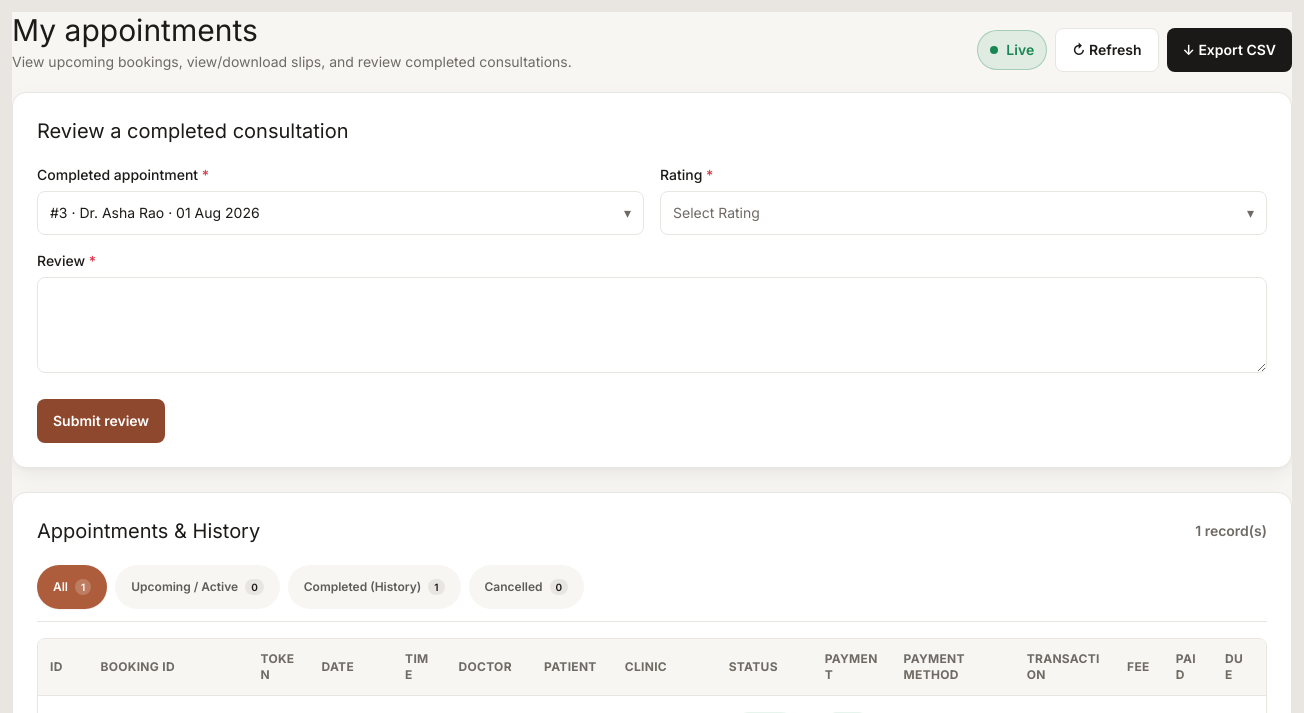
it: PatientAppointments › refresh re-fetches appointments and payments from the server and re-renders with the new rows
Click the button "↻ Refresh" at point(1107, 50), box left=1055, top=28, right=1159, bottom=72
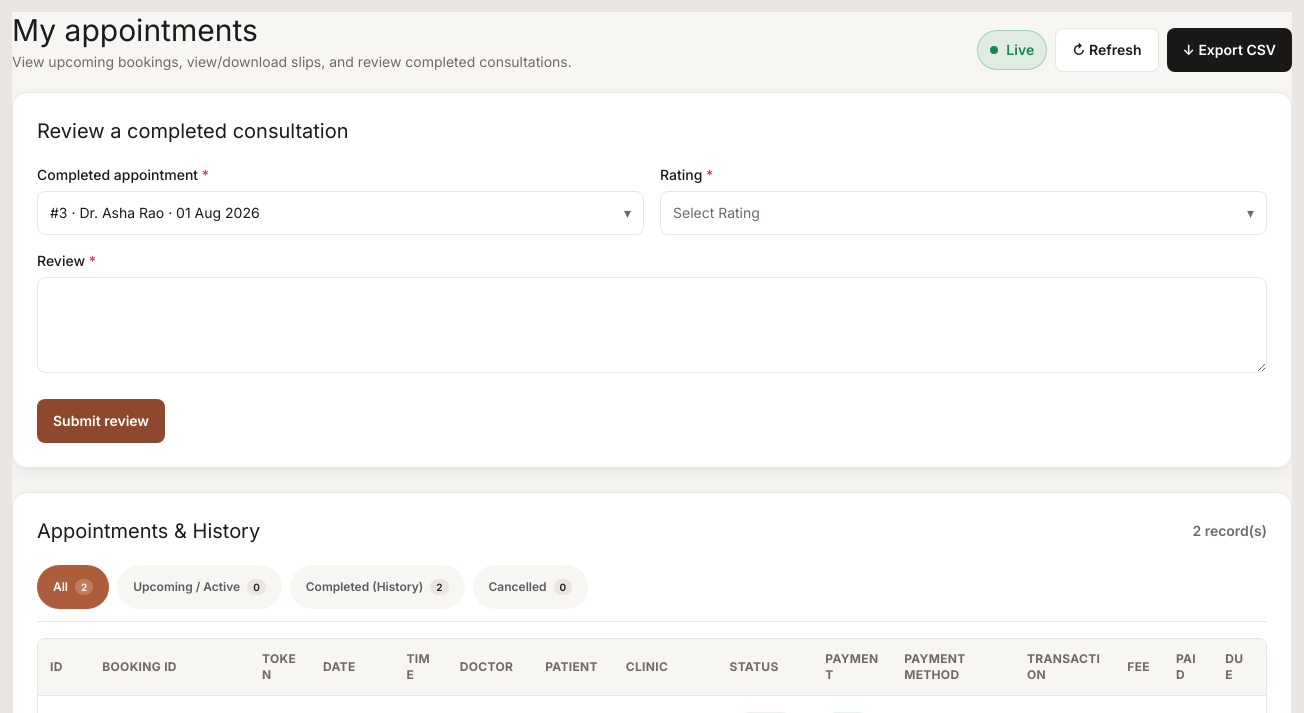
Expected: the text "2 record(s)" is shown, left=1192, top=521, right=1267, bottom=541
